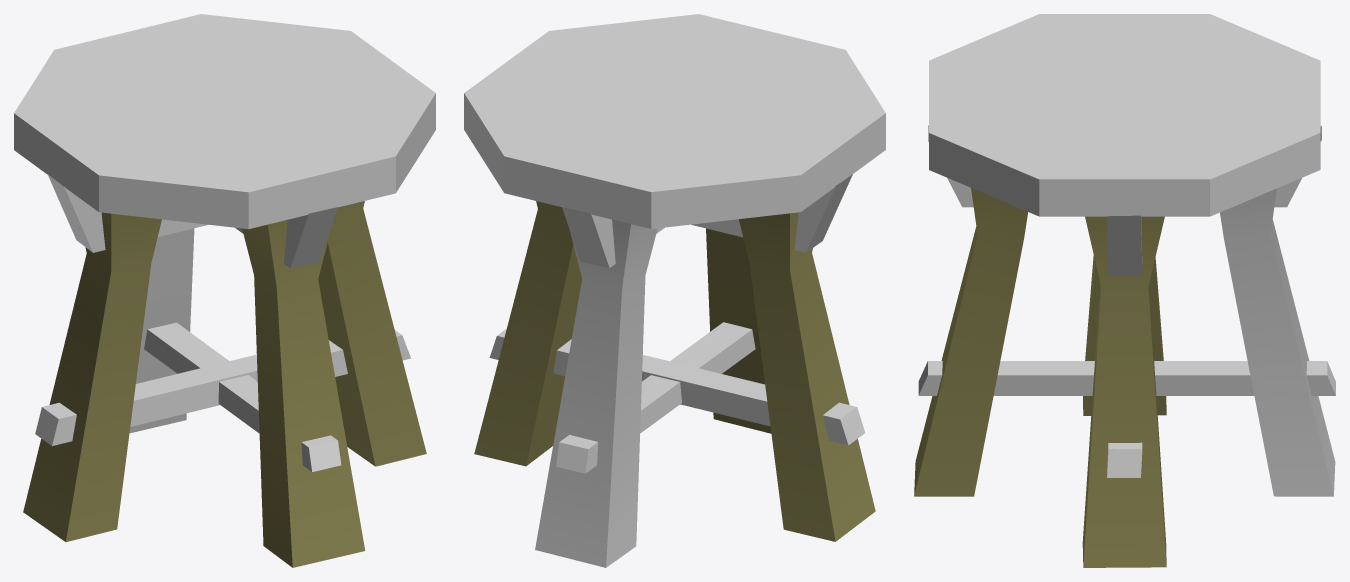
File: stool.glb
The picture shows the model from 3 angles, left to right: view 1: azimuth 30°, elevation 25°; view 2: azimuth 150°, elevation 25°; view 3: azimuth 270°, elevation 25°; orthographic projection.
Parts seen in each view (by area): view 1: Stool; view 2: Stool; view 3: Stool.
Part boxes in pixels (x1,y1,x2,y2): Stool: (14, 14, 435, 567); Stool: (464, 14, 885, 567); Stool: (914, 14, 1335, 567).
Bounding box in the file's own units: 1 × 1 × 1.
